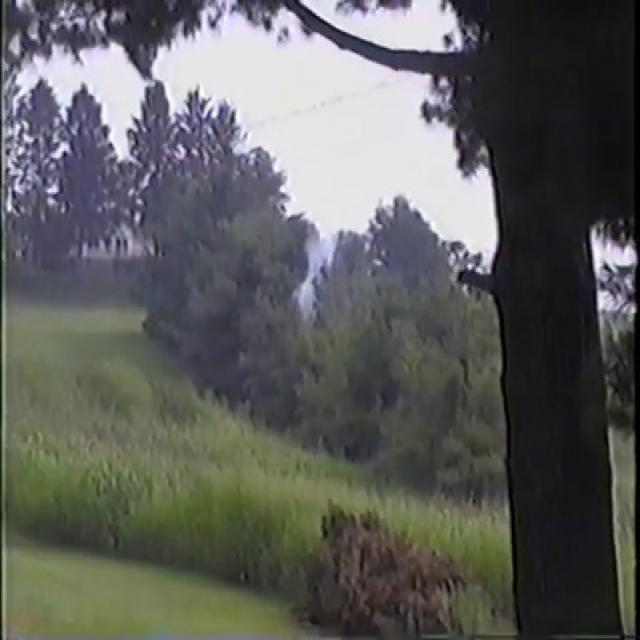Smoke: (291, 209, 342, 319)
